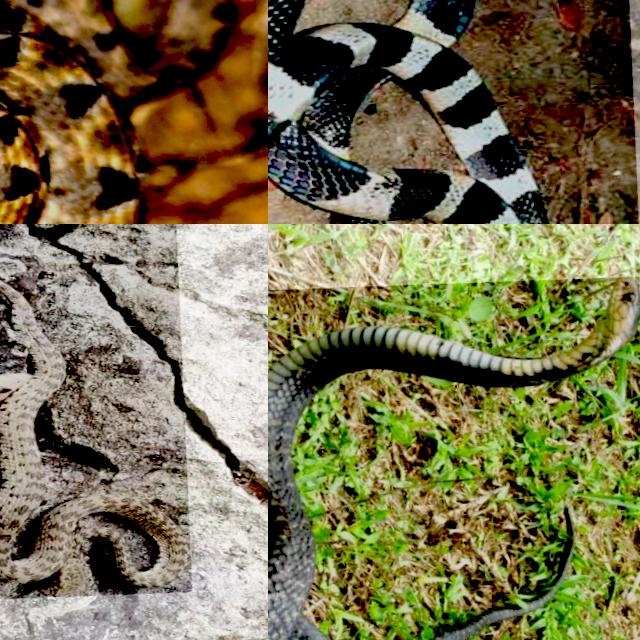Bungarus candidus: (268, 0, 547, 223)
Calloselasma rhodostoma: (0, 0, 229, 223)
Naja kaouthia: (268, 277, 639, 639)
Ovophis monticola: (0, 280, 190, 597)
